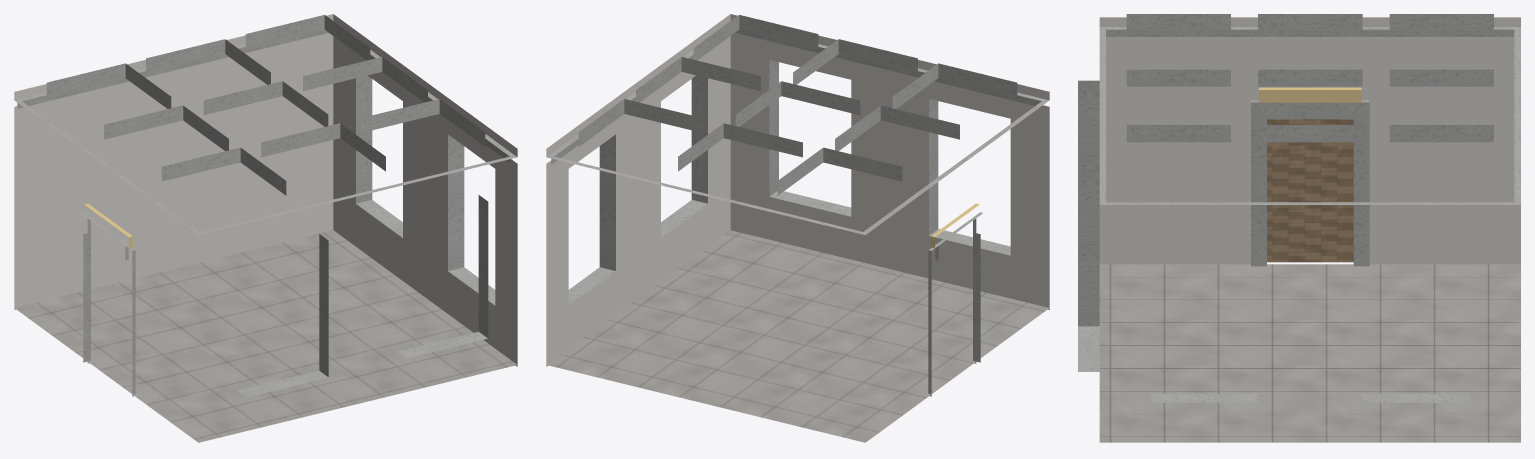
File: greenhouse.glb
The picture shows the model from 3 angles, left to right: view 1: azimuth 30°, elevation 25°; view 2: azimuth 150°, elevation 25°; view 3: azimuth 270°, elevation 25°; orthographic projection. The views are drawn at different scales.
Parts seen in each view (by area): view 1: greenhouse; view 2: greenhouse; view 3: greenhouse.
Boxes of the visible parts, x1=… form: greenhouse: x1=14, y1=14, x2=517, y2=442; greenhouse: x1=546, y1=14, x2=1049, y2=442; greenhouse: x1=1078, y1=14, x2=1520, y2=442.
Size of the model in its own units: 8.3 by 5.4 by 8.2.
6 materials, 3 textured.
